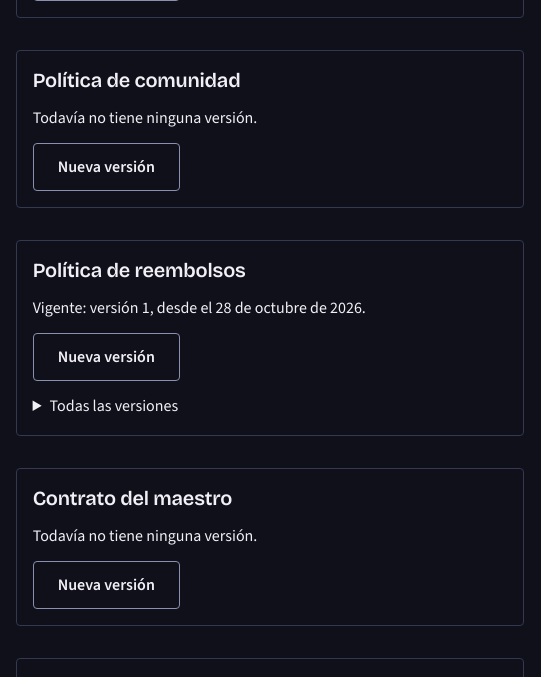
Test: PA-89, los textos legales › los errores de lo escrito se dicen en su campo, con lo escrito
(page scrolled)
Click the button named "Nueva versión de Política de reembolsos" at (106, 357), box [33,333,180,381]
(page scrolled)
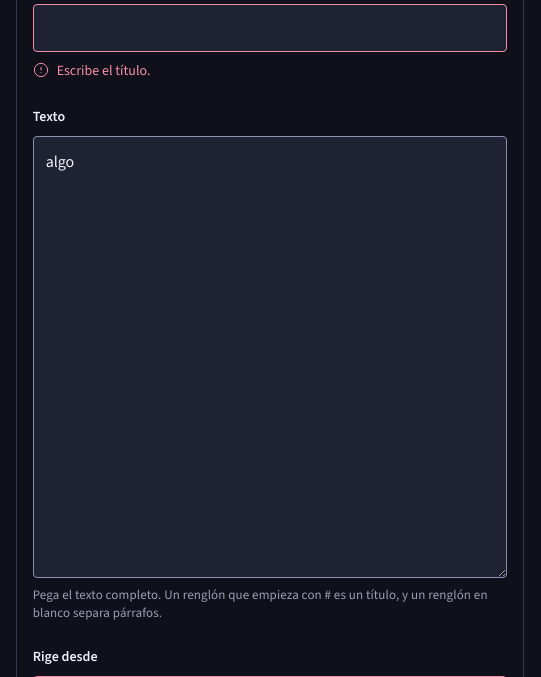
Result: the text box labelled "Texto" holds "algo" at [33,136,507,578]
